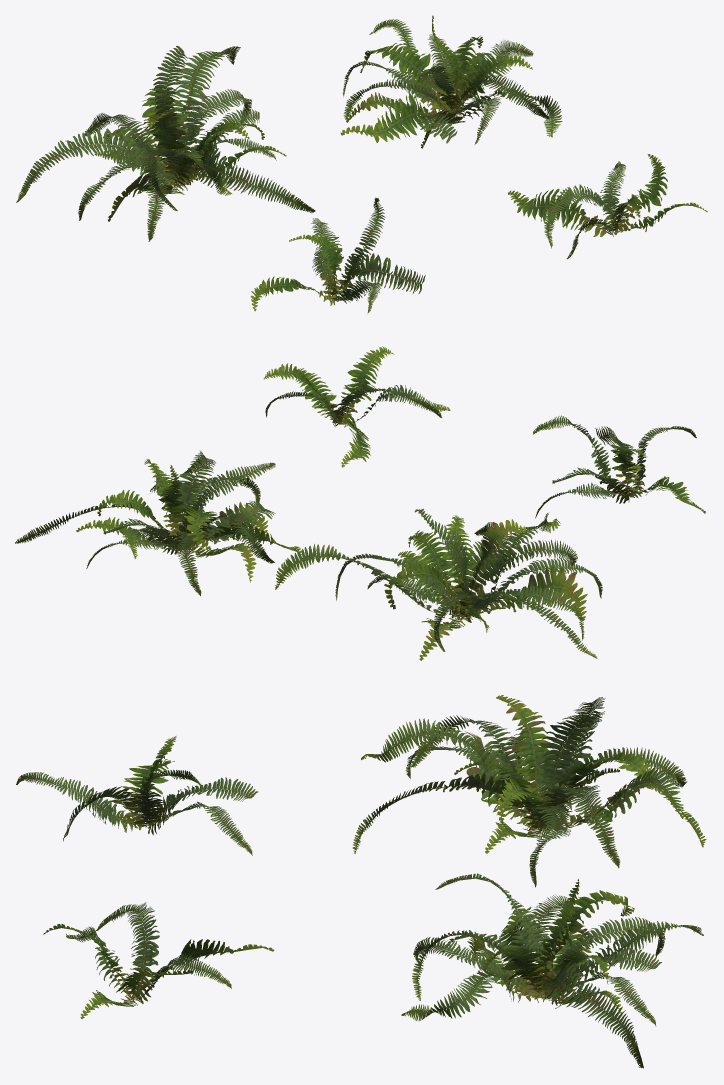
The model's file is fern_02_2k.gltf.
The picture shows the model from 3 angles, top to bottom: view 1: azimuth 30°, elevation 25°; view 2: azimuth 150°, elevation 25°; view 3: azimuth 270°, elevation 25°; orthographic projection. The views are drawn at different scales.
Parts seen in each view (by area): view 1: fern_02_b, fern_02_c, fern_02_a, fern_02_d; view 2: fern_02_b, fern_02_c, fern_02_d, fern_02_a; view 3: fern_02_b, fern_02_c, fern_02_a, fern_02_d.
Boxes of the visible parts, left/top/right/bottom form: fern_02_b: left=16, top=46, right=315, bottom=241; fern_02_c: left=340, top=15, right=562, bottom=148; fern_02_a: left=250, top=197, right=425, bottom=313; fern_02_d: left=508, top=154, right=707, bottom=259; fern_02_b: left=275, top=508, right=602, bottom=660; fern_02_c: left=15, top=450, right=302, bottom=596; fern_02_d: left=263, top=346, right=450, bottom=467; fern_02_a: left=533, top=415, right=705, bottom=518; fern_02_b: left=352, top=695, right=706, bottom=887; fern_02_c: left=401, top=873, right=703, bottom=1068; fern_02_a: left=16, top=736, right=258, bottom=855; fern_02_d: left=43, top=902, right=274, bottom=1019.
Bounding box in the file's own units: 1.97 × 0.4277 × 1.72.
Materials: 1 (1 with a texture image).
